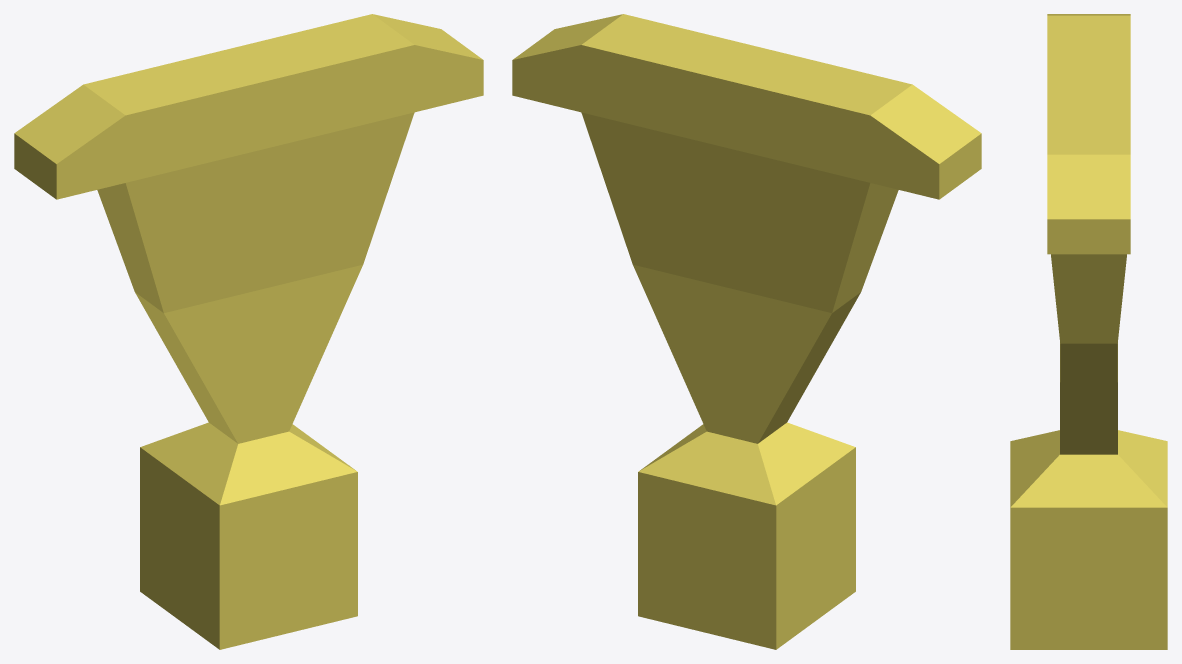
Rendered from trophy.fbx.
3 renders of one model, left to right at view 1: azimuth 30°, elevation 25°; view 2: azimuth 150°, elevation 25°; view 3: azimuth 270°, elevation 25°, orthographic.
Parts seen in each view (by area): view 1: Cube; view 2: Cube; view 3: Cube.
Part boxes in pixels (x1=…): Cube: x1=14, y1=14, x2=483, y2=649; Cube: x1=512, y1=14, x2=981, y2=649; Cube: x1=1010, y1=14, x2=1167, y2=649.
Size of the model in its own units: 619 by 747 by 200.
